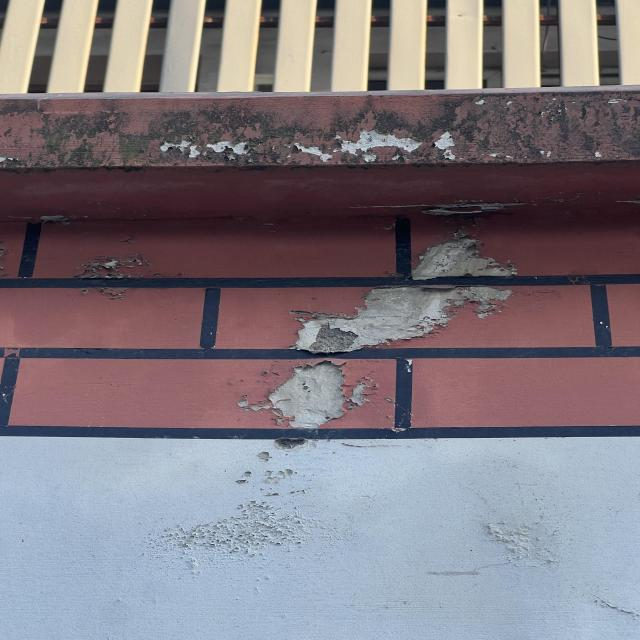damp: (127, 441, 580, 625)
spalling: (286, 222, 516, 360), (250, 362, 387, 432)
